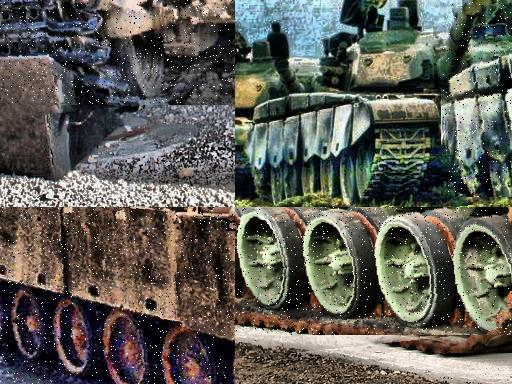tanks: (236, 1, 512, 205), (1, 208, 236, 384), (236, 208, 512, 336), (1, 1, 236, 105), (444, 55, 512, 198), (236, 31, 288, 197), (287, 59, 320, 91)
